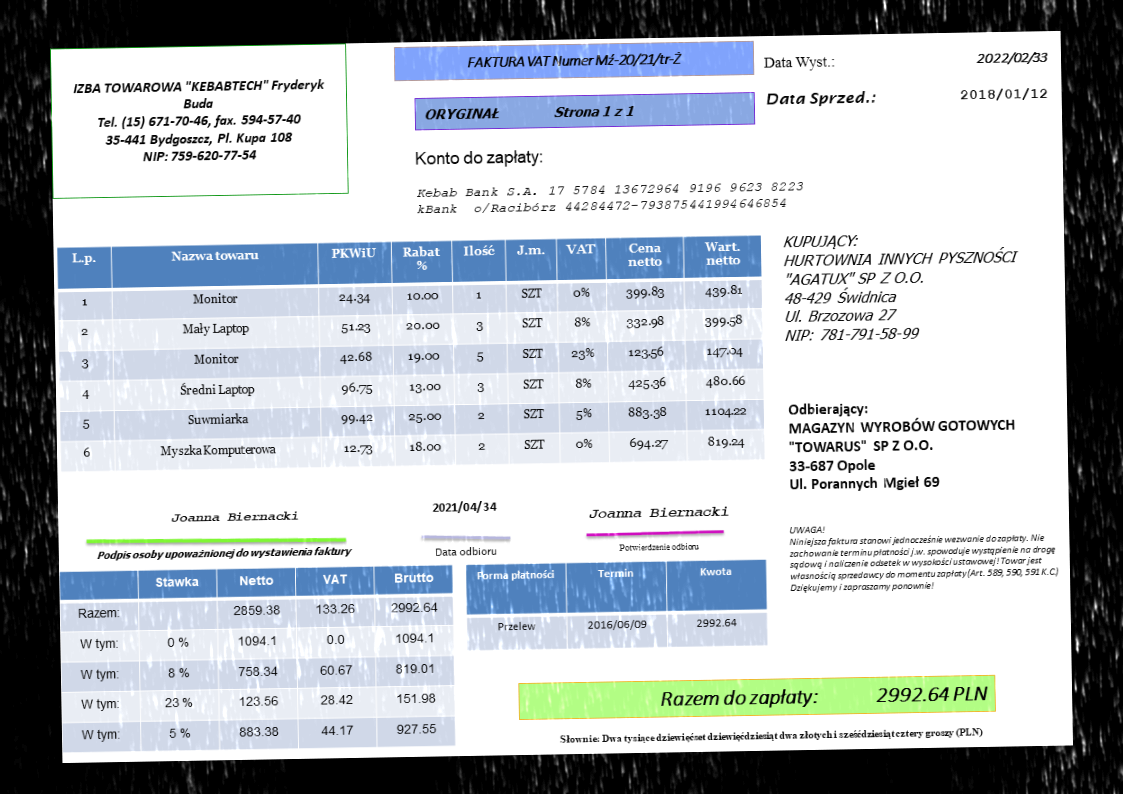Table: (55, 234, 766, 472), (60, 564, 457, 753), (465, 559, 768, 652)
TextBox: (781, 228, 1021, 345), (71, 76, 328, 167), (786, 397, 1018, 495), (787, 518, 1061, 595), (415, 178, 807, 218), (557, 724, 985, 747), (658, 683, 990, 712), (95, 543, 351, 563), (465, 50, 684, 72), (423, 101, 638, 122), (413, 146, 545, 171), (586, 504, 730, 522), (765, 87, 876, 110), (170, 509, 300, 525), (957, 84, 1050, 103), (973, 49, 1051, 67), (761, 53, 835, 71), (430, 498, 498, 517), (618, 540, 701, 554), (432, 545, 497, 559)
